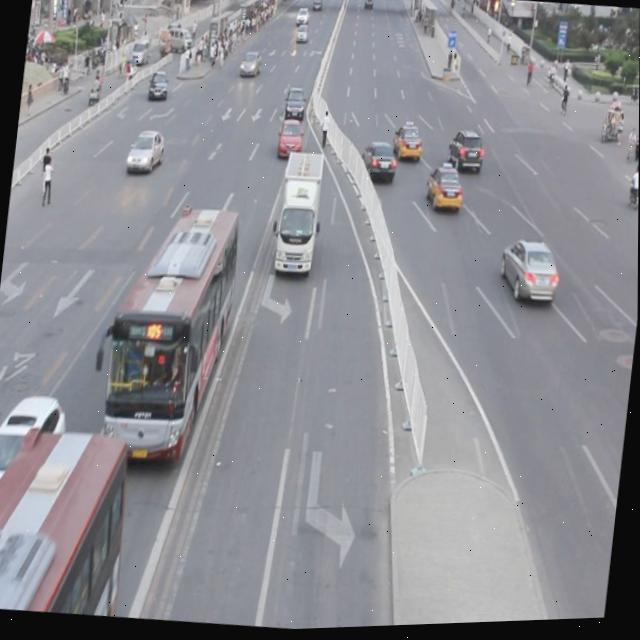bus: (267, 150, 327, 278)
car: (0, 386, 70, 539), (495, 237, 560, 312), (424, 163, 465, 214), (124, 130, 166, 174), (445, 131, 484, 177), (359, 140, 398, 183), (391, 120, 425, 164), (274, 119, 304, 159), (282, 86, 305, 120), (237, 52, 262, 79)
van: (85, 198, 243, 462), (0, 418, 132, 620)
